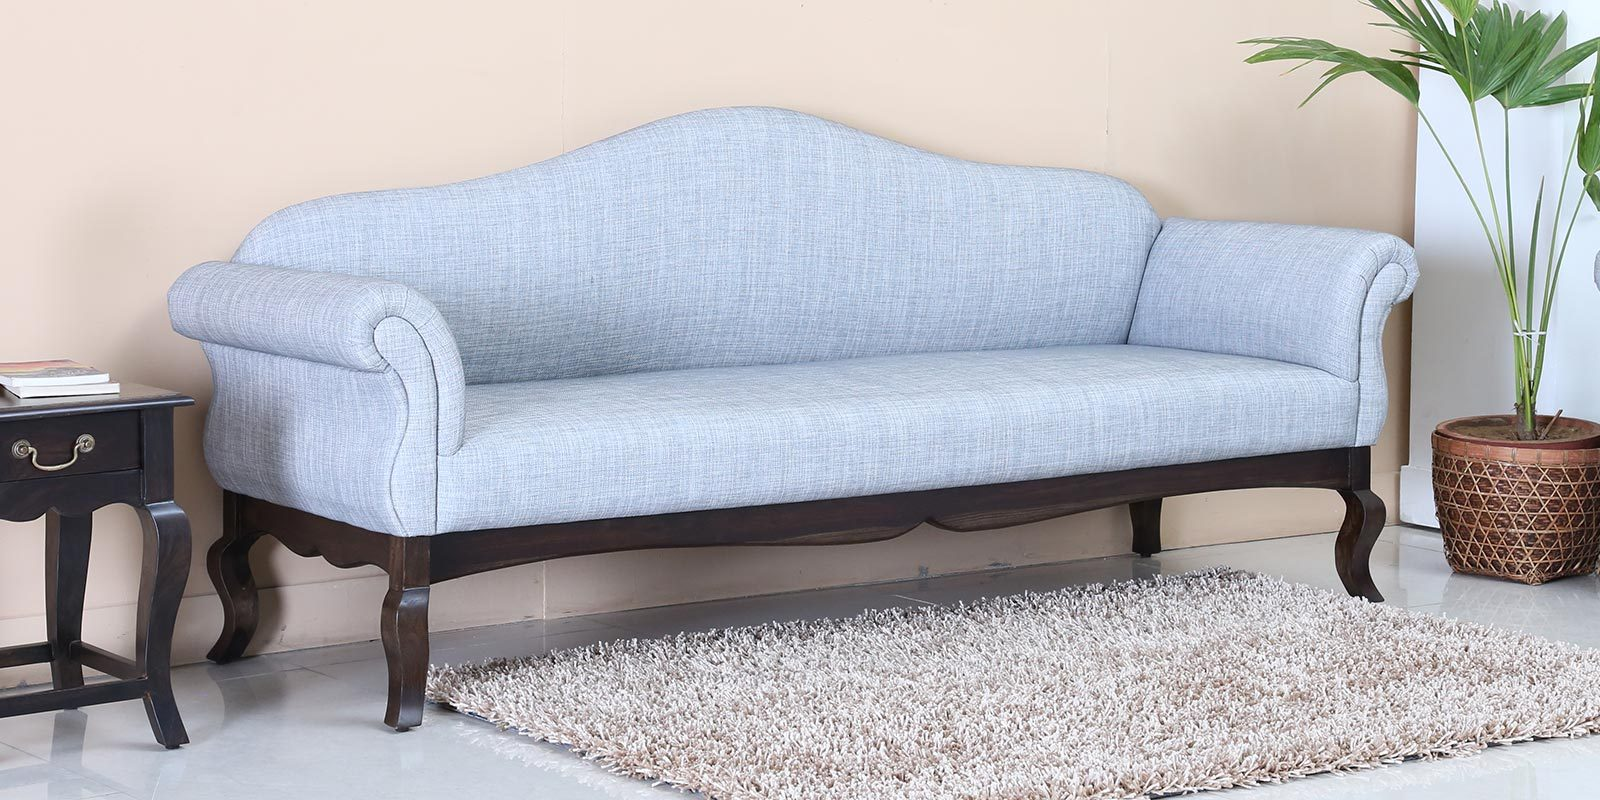Anne Three Seater Sofa in Warm Chestnut Finish by Amberville: (150, 112, 1418, 629)
